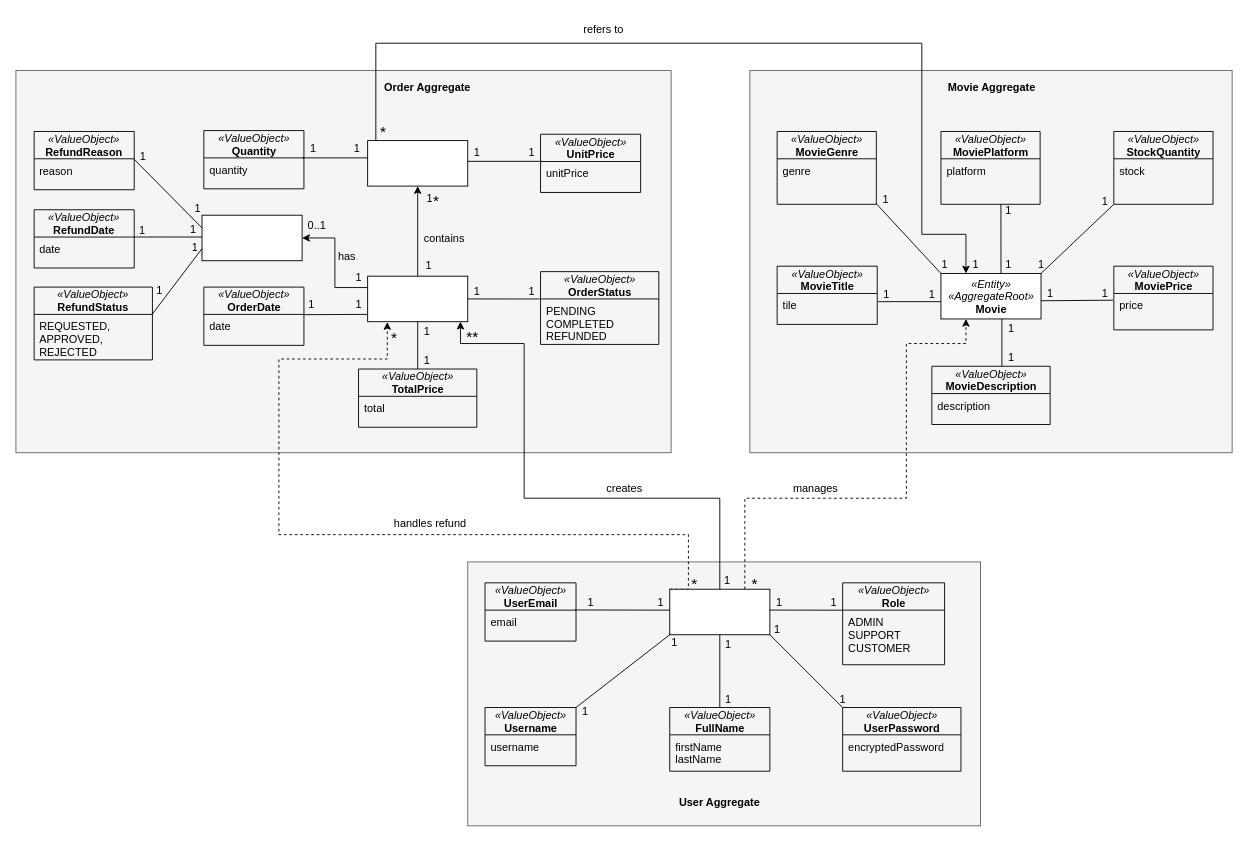
Some shapes in this 1249 by 842 pixel diagram are drawn without their labels. The shapes that lost their labels are listed below. From the top down, each one's centre as x and y in pixels, then its label:
At pixel 417 163: "«Entity» OrderItem".
At pixel 251 237: "«Entity» RefundRequest".
At pixel 417 298: "«Entity» «AggregateRoot» Order".
At pixel 719 611: "«Entity» «AggregateRoot» User".
